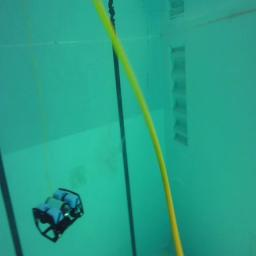front: (32, 188, 84, 244)
